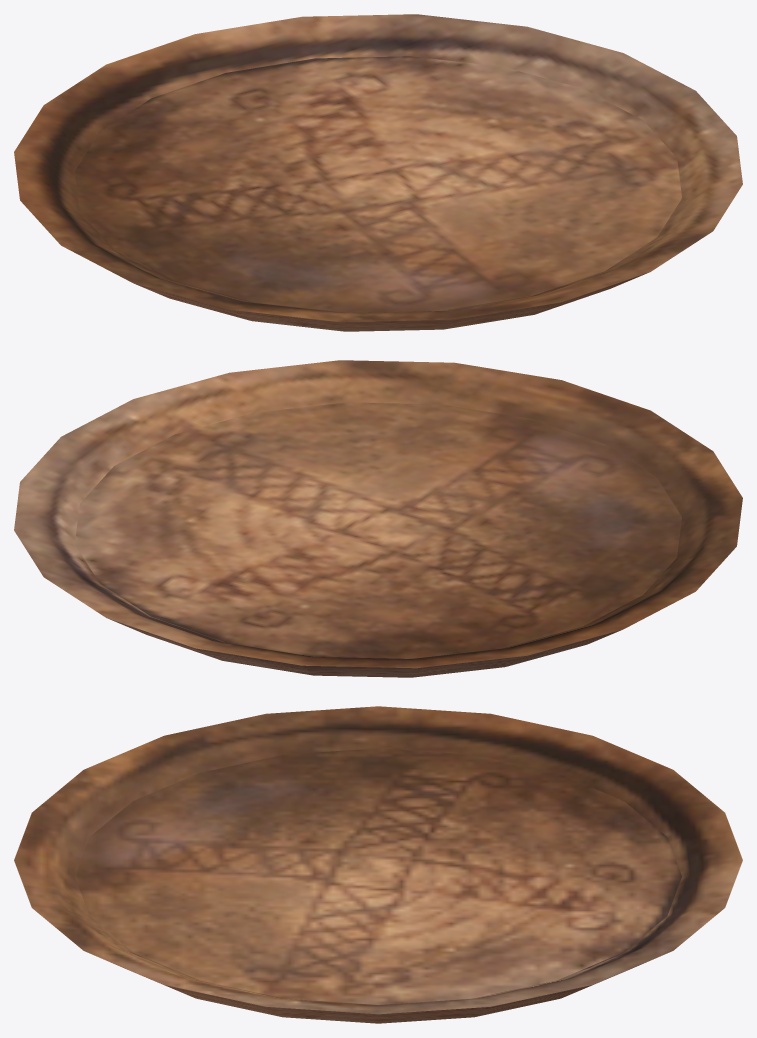
File: Plate.dae
3 views of the same model, one above another, from view 1: azimuth 30°, elevation 25°; view 2: azimuth 150°, elevation 25°; view 3: azimuth 270°, elevation 25° (orthographic).
Visible parts, largest first — view 1: meshU3D; view 2: meshU3D; view 3: meshU3D.
Part boxes in pixels (x1,y1,x2,y2): meshU3D: (14,14,742,331); meshU3D: (14,360,742,677); meshU3D: (14,706,742,1023).
Size of the model in its own units: 12.2 by 0.5943 by 12.2.
